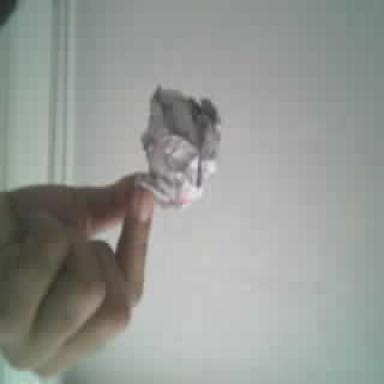paper: (142, 86, 220, 205)
